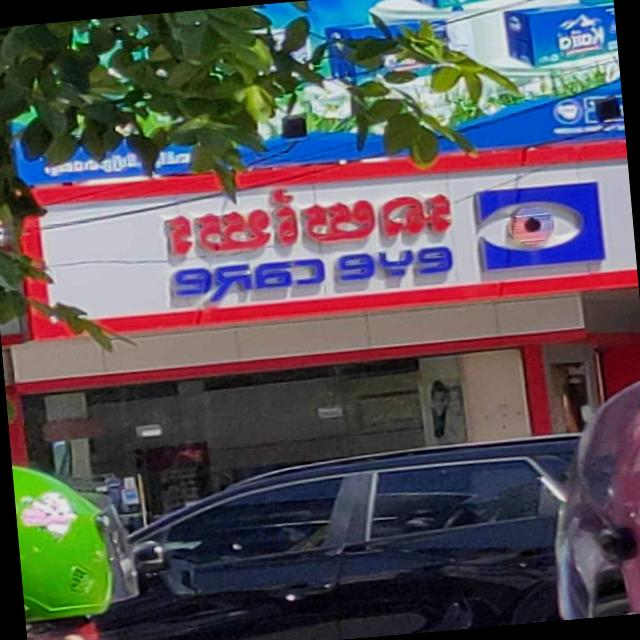Yolov11_80vkh: (159, 171, 454, 265)
